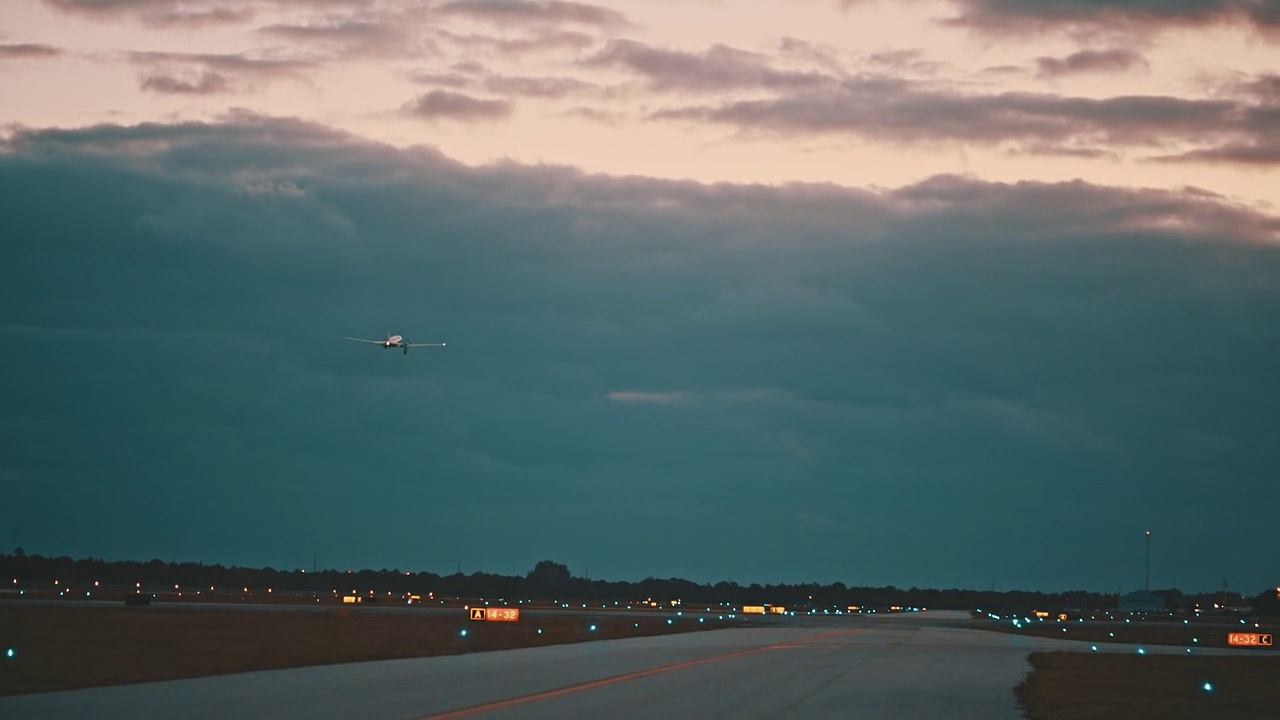plane: (342, 331, 446, 354)
